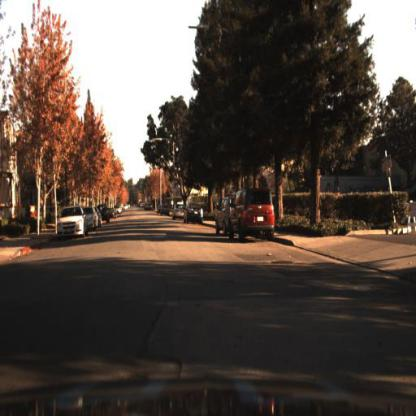car: (228, 188, 276, 241), (54, 200, 88, 245), (57, 204, 87, 240), (213, 189, 232, 241), (183, 201, 207, 226), (183, 202, 206, 227), (84, 205, 98, 234), (171, 201, 186, 224)
